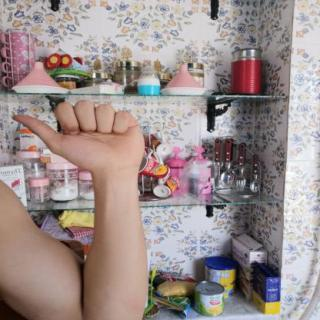DAD: (7, 95, 156, 180)
